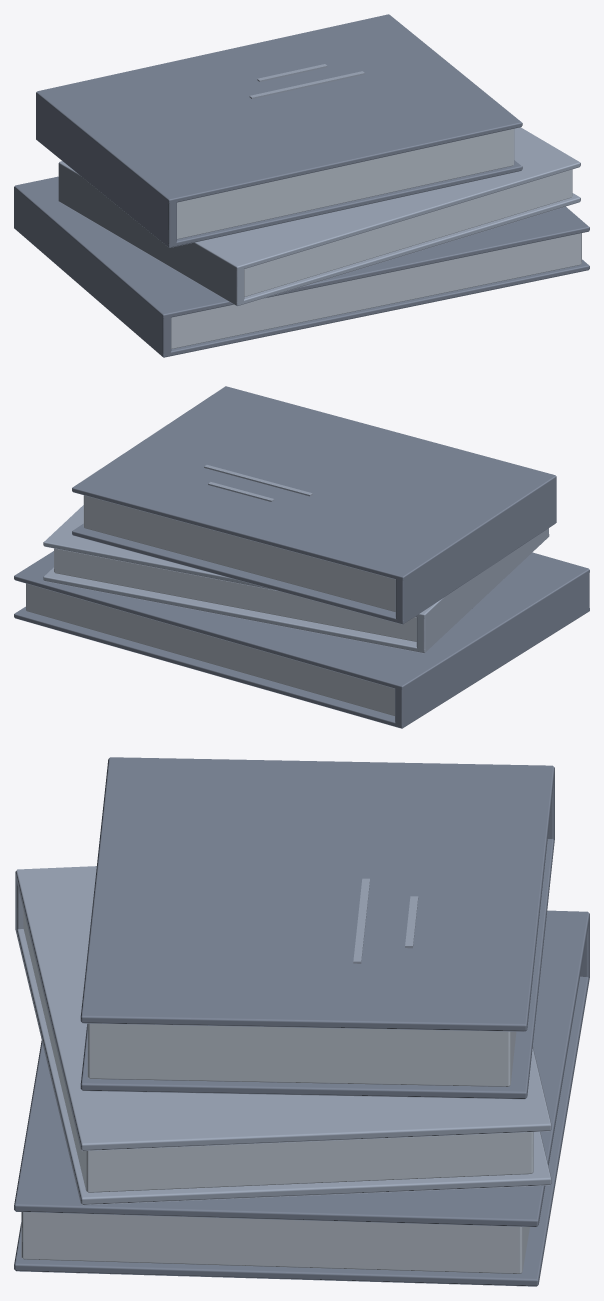
The model's file is decor-books-lite.glb.
3 views of the same model, one above another, from view 1: azimuth 30°, elevation 25°; view 2: azimuth 150°, elevation 25°; view 3: azimuth 270°, elevation 25° (orthographic). The views are drawn at different scales.
Parts seen in each view (by area): view 1: decor-books; view 2: decor-books; view 3: decor-books.
Part boxes in pixels (x1,y1,x2,y2): decor-books: (14, 14, 589, 357); decor-books: (14, 386, 589, 728); decor-books: (14, 757, 589, 1286).
Size of the model in its own units: 0.28 by 0.09 by 0.21.
